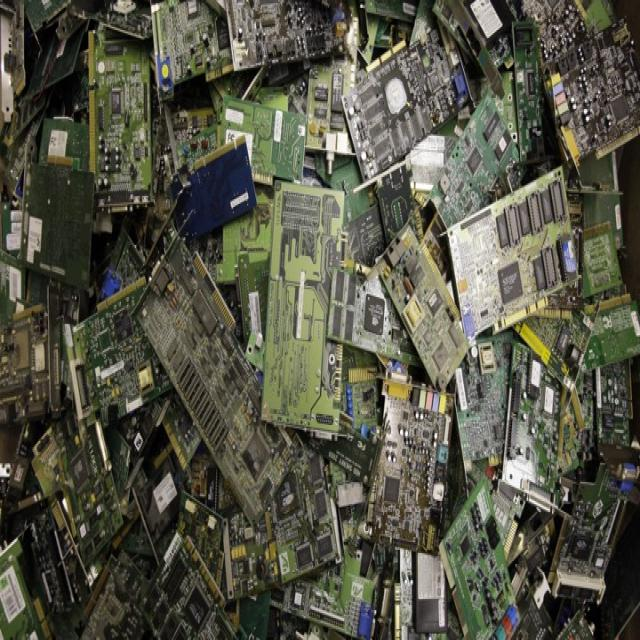hazard: (5, 12, 621, 629)
